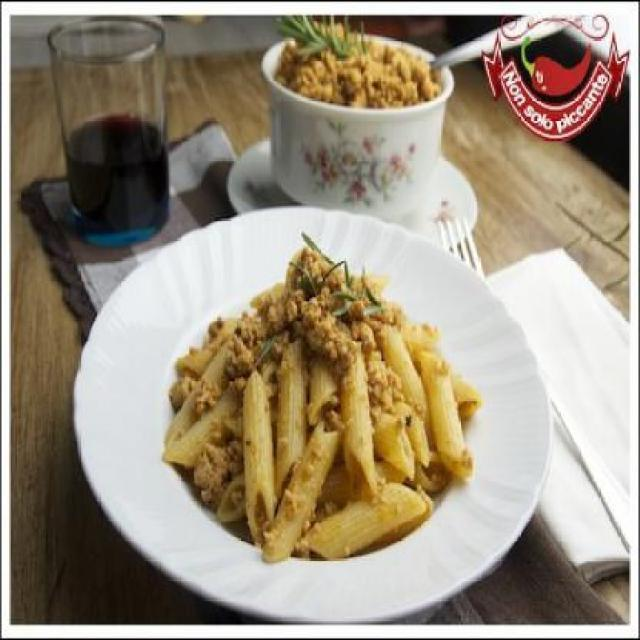Pasta al ragu: (130, 209, 502, 560)
